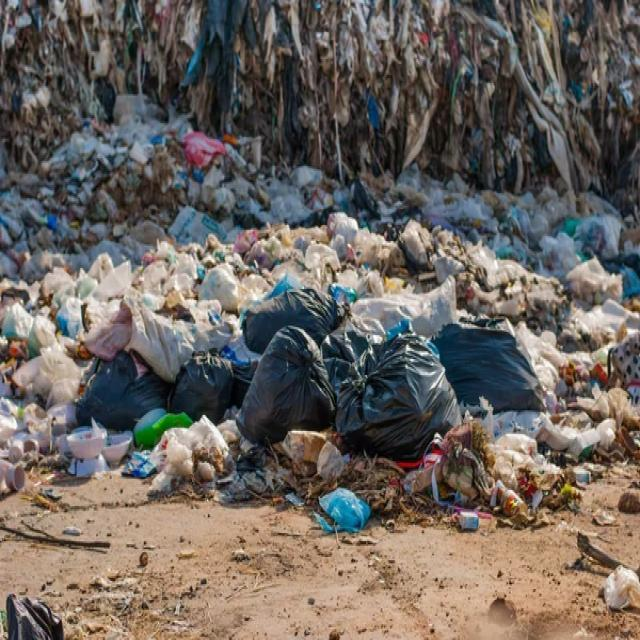garbage: (54, 104, 616, 474)
